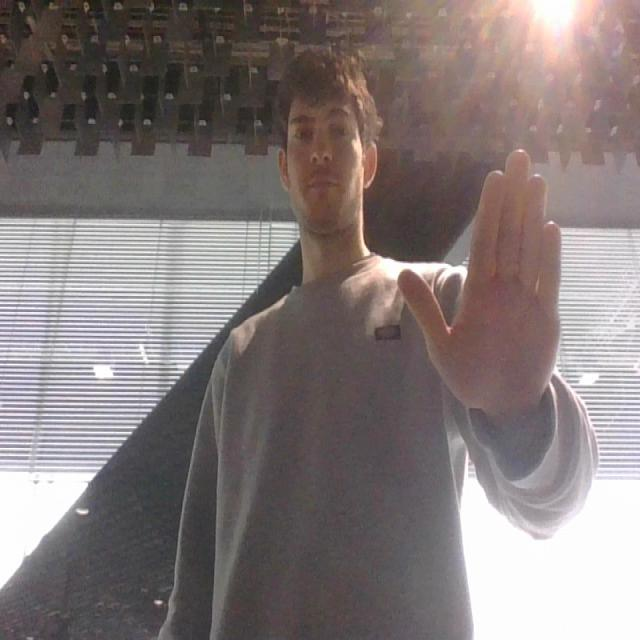backward: (398, 131, 574, 430)
